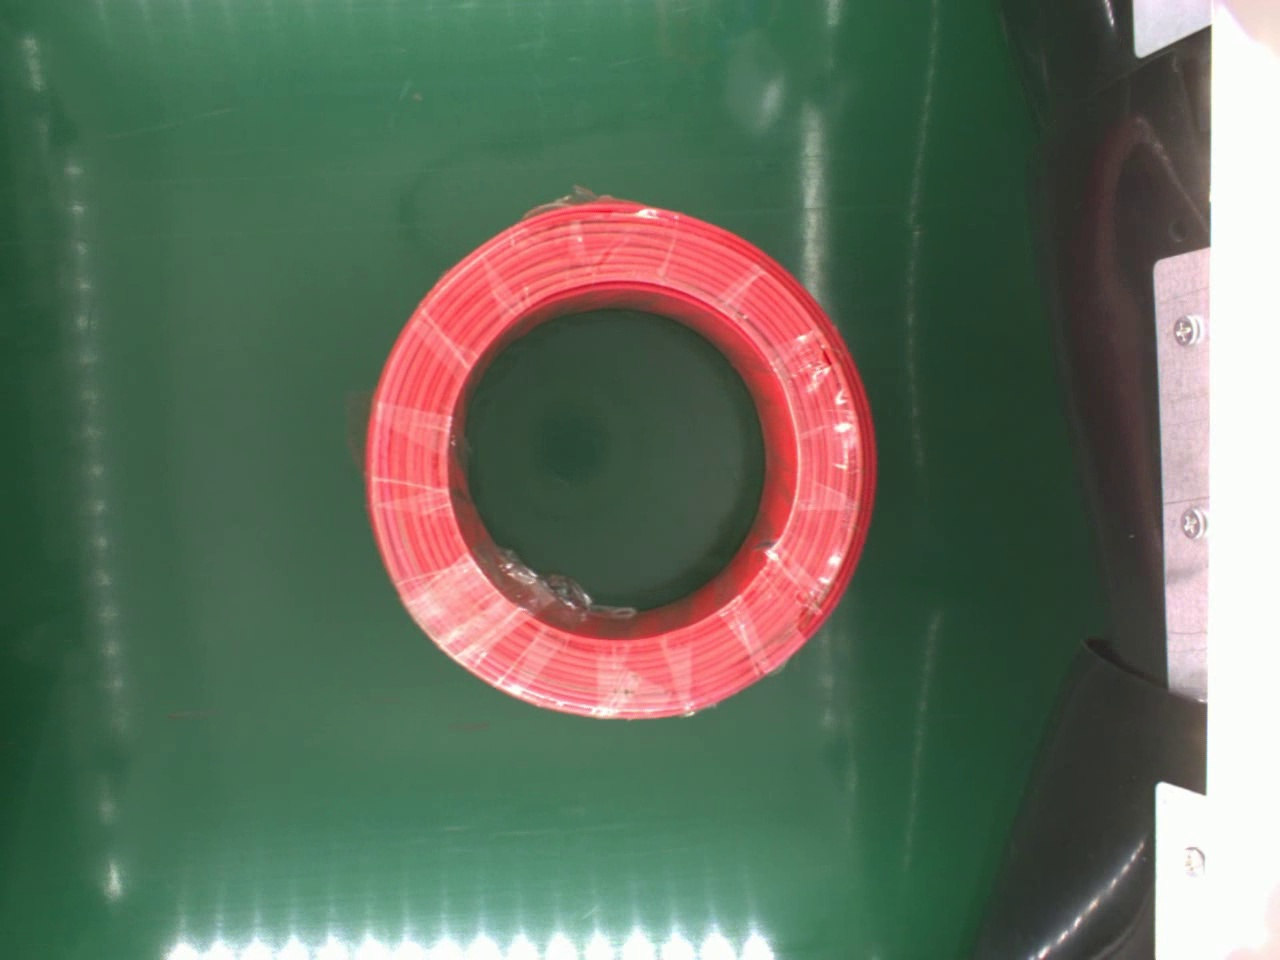red: (356, 192, 875, 726)
